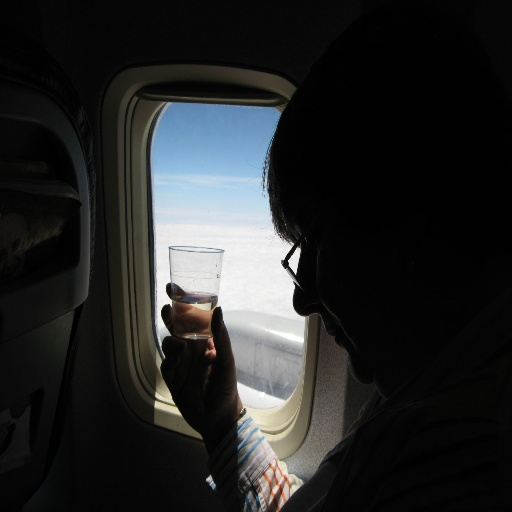hand: (158, 293, 255, 447)
